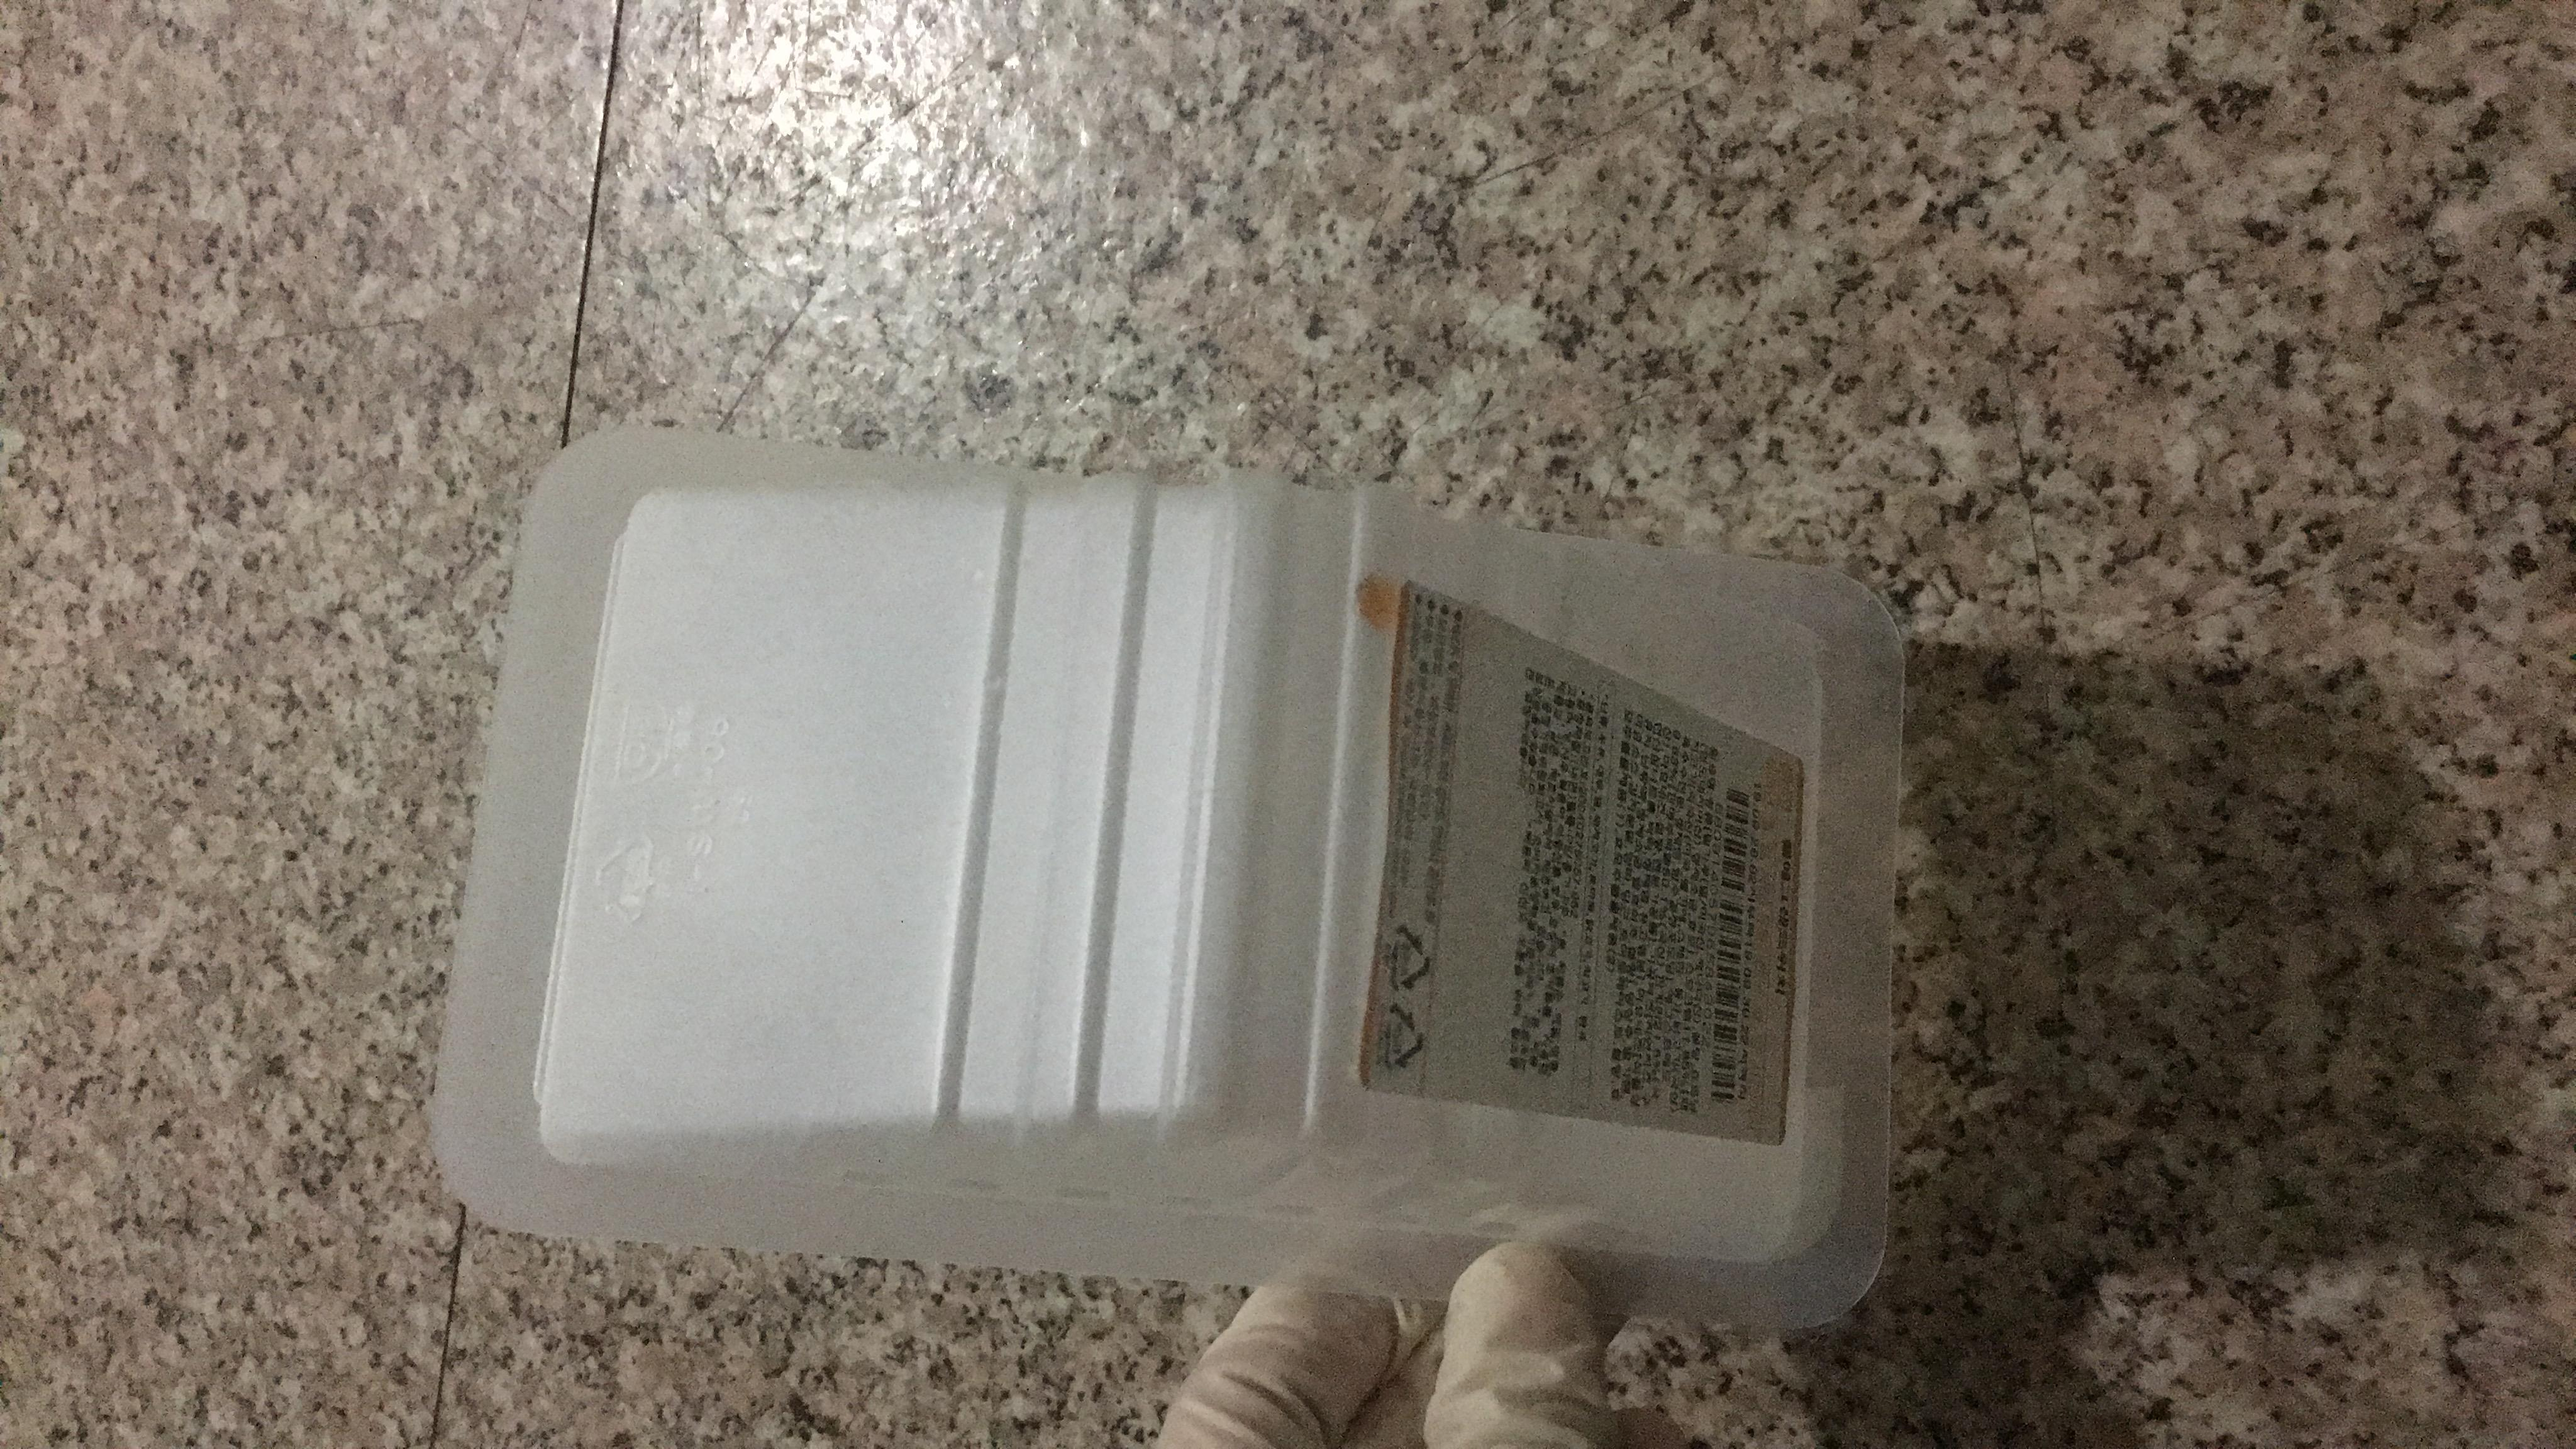bottle: (5, 154, 1829, 1081)
